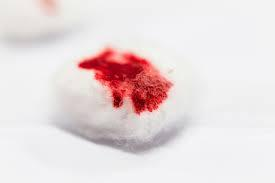cotton: (55, 43, 189, 142), (0, 0, 89, 39)
